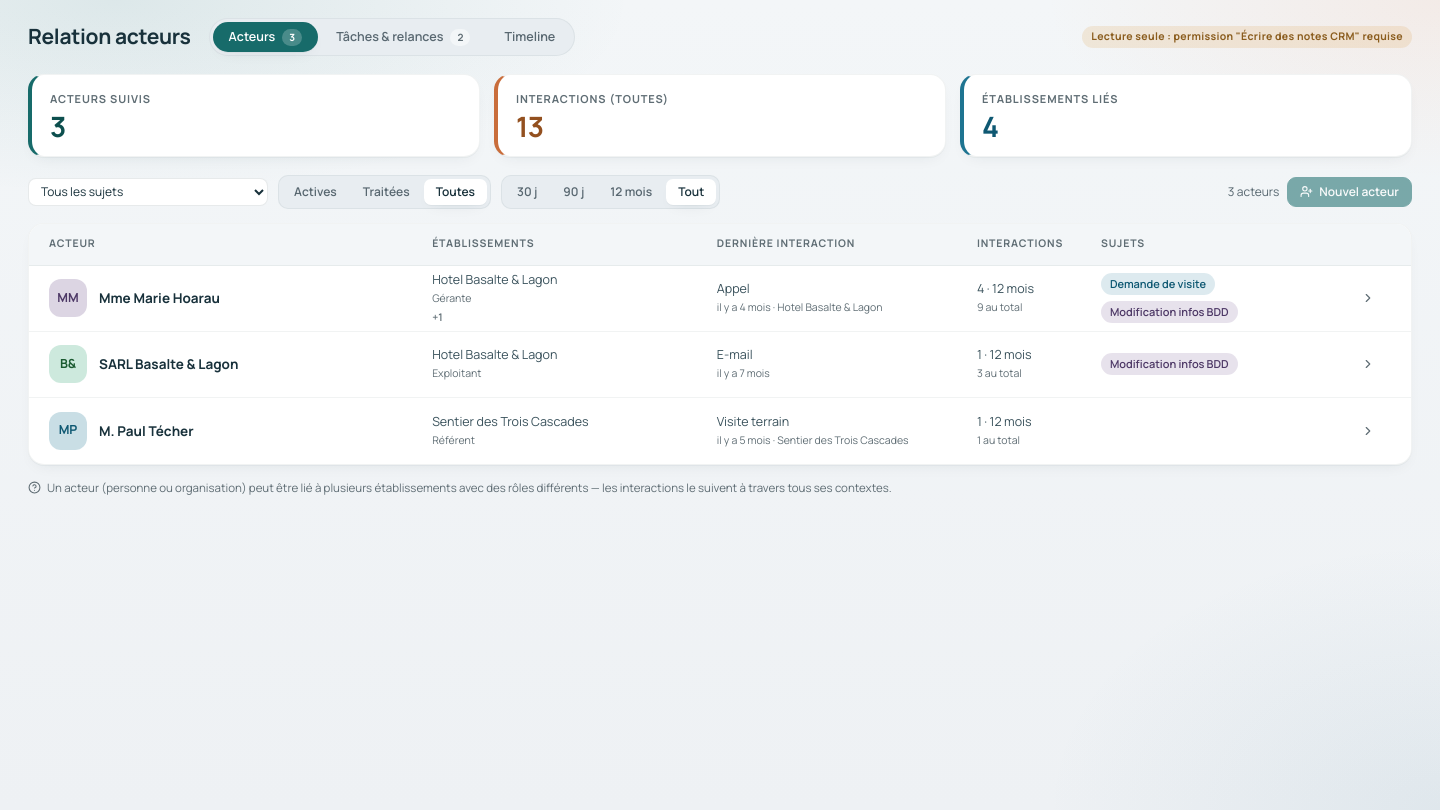
CrmPage (§61 — shell acteur-centré) › désactive l écriture avec raison sans write_crm_notes (no-write-trap)
The width and height of the screenshot is (1440, 810).
Expected: the text "Mme Marie Hoarau" is shown, [99, 288, 220, 308]
Expected: the text "Lecture seule : permission \"Écrire des notes CRM\" requise" is shown, [1082, 26, 1412, 48]
Click the button "Tâches & relances 2".
click(403, 37)  # box [320, 22, 486, 52]
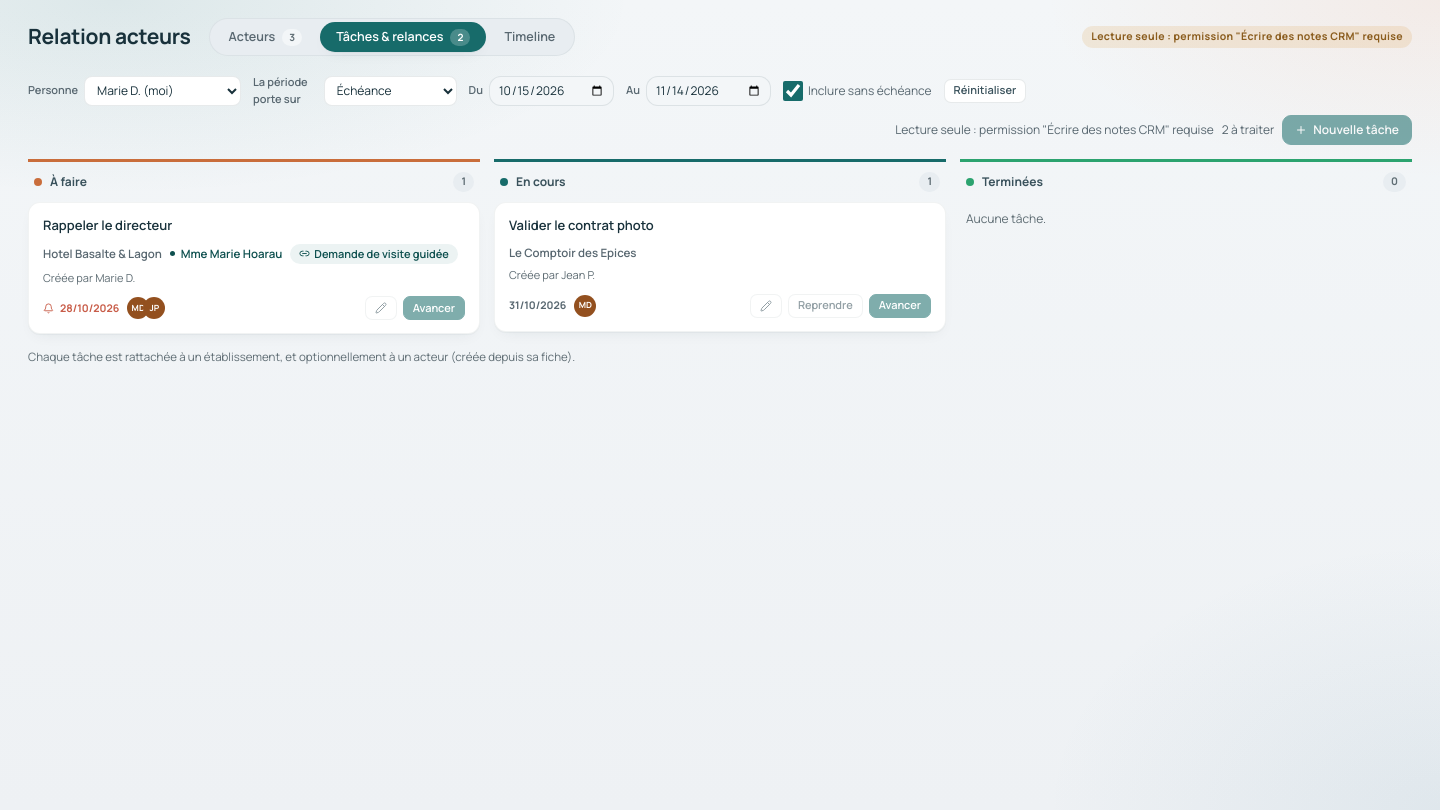
Now the text "Rappeler le directeur" is shown, box [43, 216, 172, 234]
Now the button with aria-label "Avancer « Rappeler le directeur »" is disabled, box [403, 296, 465, 320]
Now the button "Nouvelle tâche" is disabled, box [1282, 115, 1412, 145]
